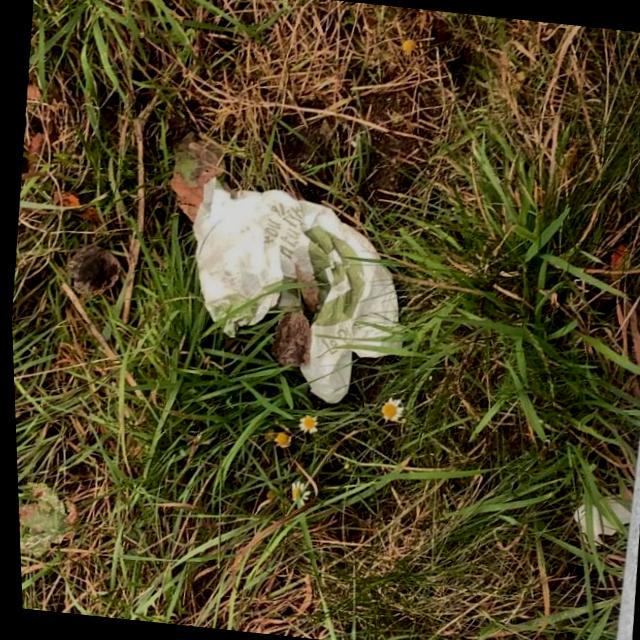Paper: (168, 173, 421, 414)
